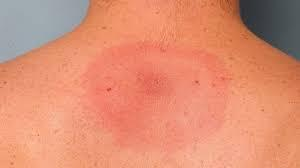Tick: (93, 42, 227, 138)
